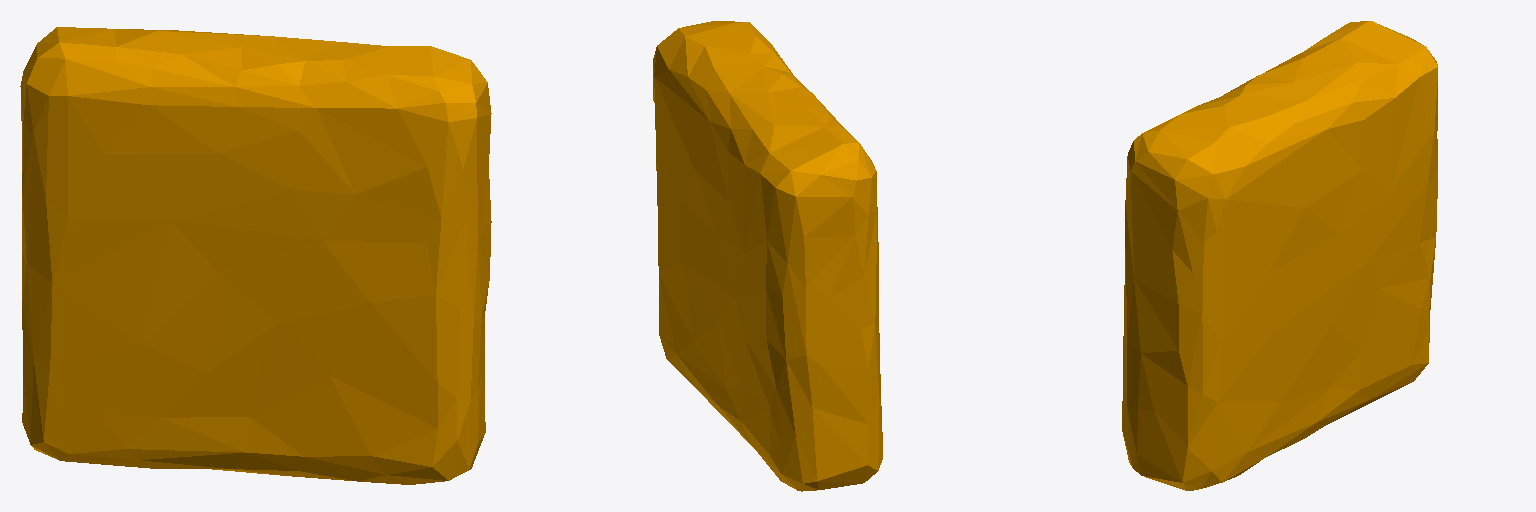
URDF robot description (chewy_dipps_chocolate_chip):
<?xml version="1.0"?>
<robot name="chewy_dipps_chocolate_chip">
  <link name="base_link">
    <contact>
      <lateral_friction value="1.0"/>
      <rolling_friction value="0.0"/>
      <contact_cfm value="0.0"/>
      <contact_erp value="1.0"/>
    </contact>
    <inertial>
      <mass value="0.668842040654"/>
      <inertia ixx="1" ixy="0" ixz="0" iyy="1" iyz="0" izz="1"/>
    </inertial>
    <visual>
      <geometry>
        <mesh filename="chewy_dipps_chocolate_chip_visual.obj"/>
      </geometry>
    </visual>
    <collision>
      <geometry>
        <mesh filename="chewy_dipps_chocolate_chip_collision.obj"/>
      </geometry>
    </collision>
  </link>
</robot>

--- Render facts (derived) ---
The picture shows the robot from 3 angles, left to right: view 1: azimuth 30°, elevation 25°; view 2: azimuth 150°, elevation 25°; view 3: azimuth 270°, elevation 25°; orthographic projection.
Model chewy_dipps_chocolate_chip with 1 links and 0 joints (none), rooted at base_link, posed all joints at 0.
Links seen in each view (by area): view 1: base_link; view 2: base_link; view 3: base_link.
Link boxes in pixels (left/top/right/bottom): base_link: left=20, top=27, right=491, bottom=484; base_link: left=653, top=21, right=882, bottom=491; base_link: left=1122, top=21, right=1437, bottom=490.
Size in the robot's own frame: 0.07 by 0.0625 by 0.0766 metres.
1 mesh visuals loaded from 1 distinct referenced files (1 OBJ).